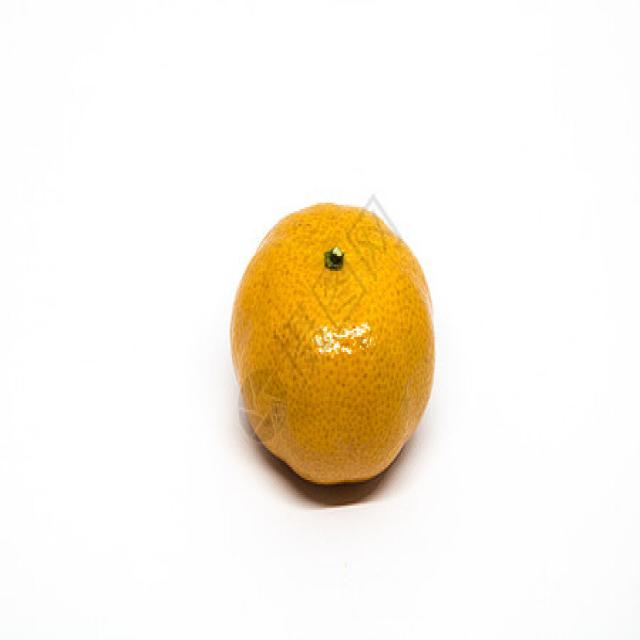Orange: (230, 200, 435, 490)
